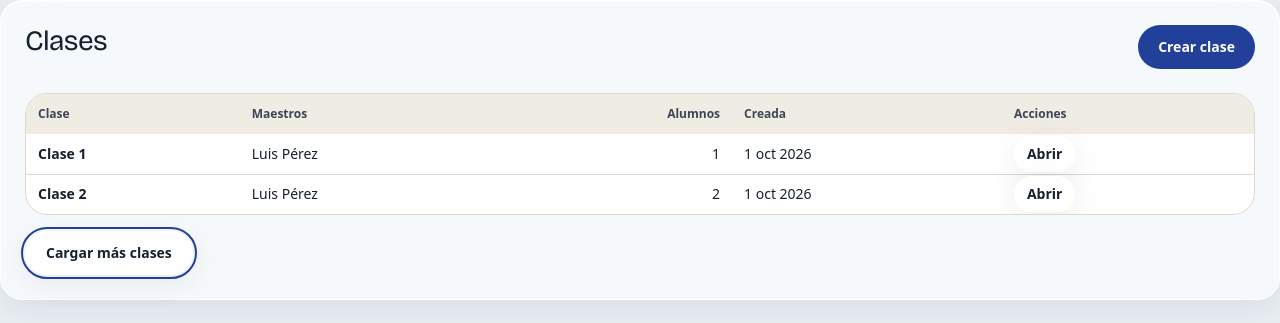
Test case: ataque CLASES-02c r2: los cinco «Cargar más» con dos clics y la página en vuelo › «Cargar más clases» (/admin/clases), dos clics en 30 ms: una sola petición y ninguna fila duplicada
Step 1. Click the button "Cargar más clases" → [109, 253], box x1=25 y1=231 x2=193 y2=275
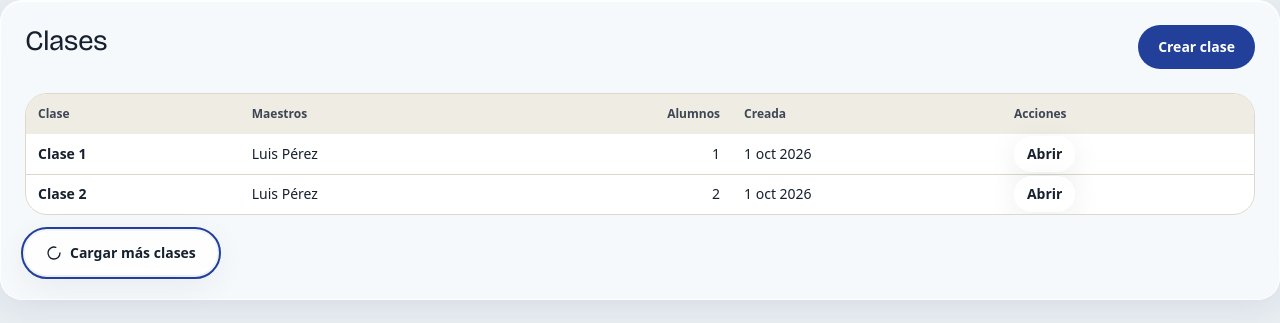
Step 2. Click the button "Cargar más clases" → [121, 253], box x1=25 y1=231 x2=217 y2=275
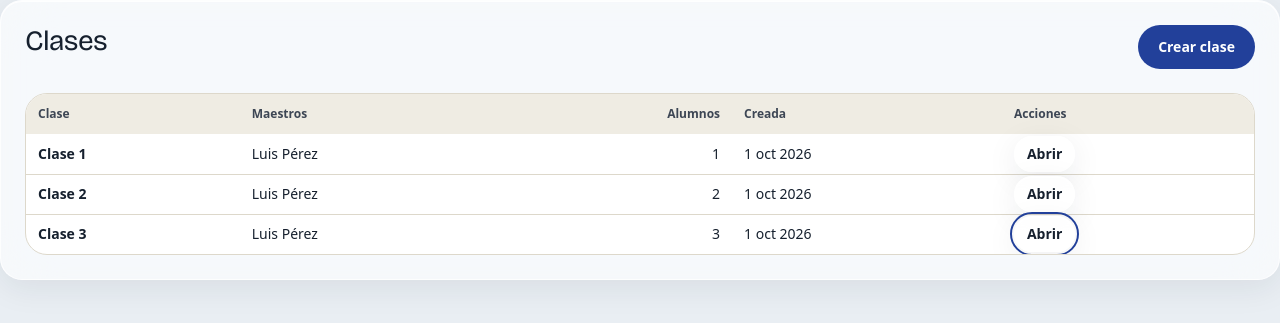
Expected: the button "Cargar más clases" is gone
